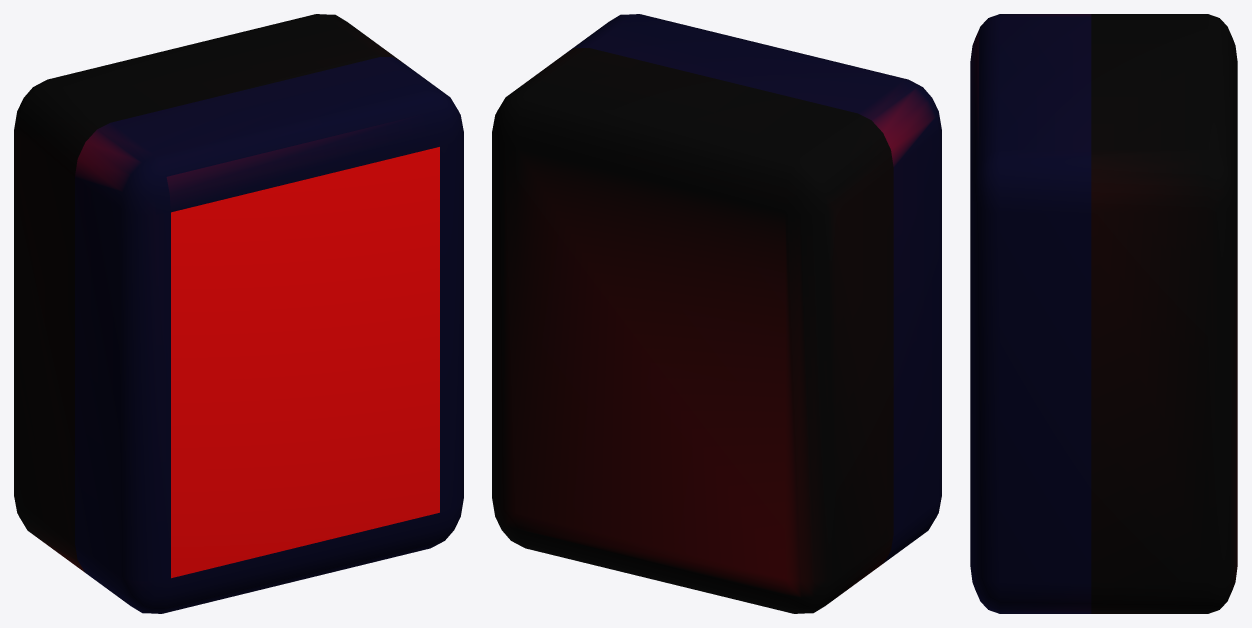
The model's file is 3DCard.fbx.
3 views of the same model, side by side, from view 1: azimuth 30°, elevation 25°; view 2: azimuth 150°, elevation 25°; view 3: azimuth 270°, elevation 25° (orthographic).
Parts seen in each view (by area): view 1: 立方体; view 2: 立方体; view 3: 立方体.
Boxes of the visible parts, x1,y1,x2,y2 form: 立方体: (14,14,463,613); 立方体: (492,14,941,613); 立方体: (970,14,1237,613).
Size of the model in its own units: 13.09 by 16.79 by 8.83.
